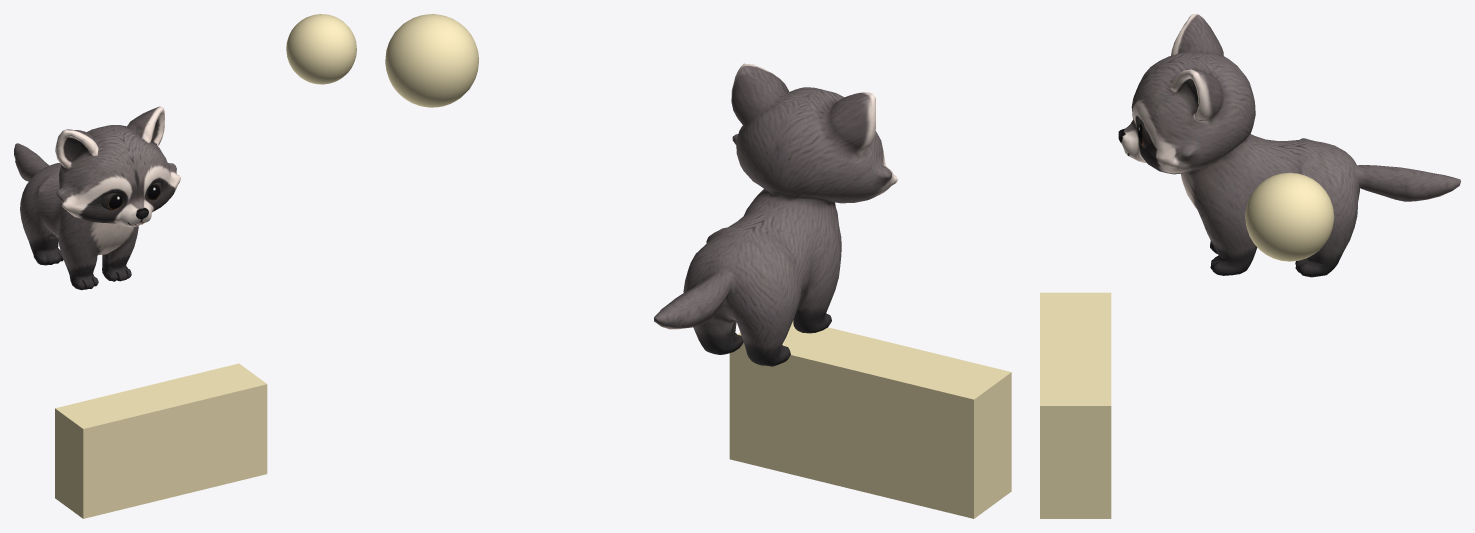
The model's file is ModelBaseline.unity.glb.
The picture shows the model from 3 angles, left to right: view 1: azimuth 30°, elevation 25°; view 2: azimuth 150°, elevation 25°; view 3: azimuth 270°, elevation 25°; orthographic projection. The views are drawn at different scales.
Visible parts, largest first — view 1: Press to rotate, Prize_Batch0, Input indicator; view 2: Press to rotate, Prize_Batch0, Input indicator; view 3: Prize_Batch0, Press to rotate, Input indicator.
Boxes of the visible parts, left/top/right/bottom form: Press to rotate: left=55, top=363, right=267, bottom=518; Prize_Batch0: left=14, top=106, right=180, bottom=290; Input indicator: left=286, top=14, right=356, bottom=84; Press to rotate: left=729, top=320, right=1011, bottom=518; Prize_Batch0: left=654, top=63, right=897, bottom=366; Input indicator: left=385, top=14, right=478, bottom=107; Prize_Batch0: left=1118, top=14, right=1460, bottom=277; Press to rotate: left=1040, top=292, right=1111, bottom=518; Input indicator: left=1245, top=172, right=1334, bottom=261.
Bounding box in the file's own units: 0.3 × 0.27 × 0.236.
Materials: 2 (1 with a texture image).
